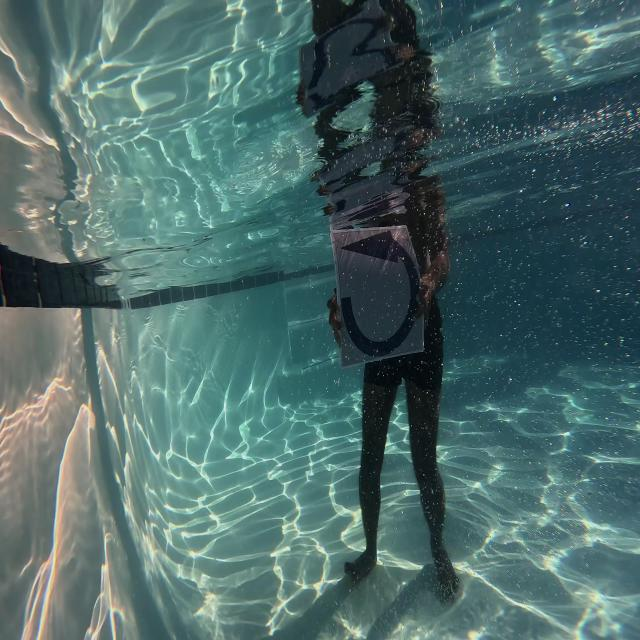blue_side: (337, 216, 424, 356)
